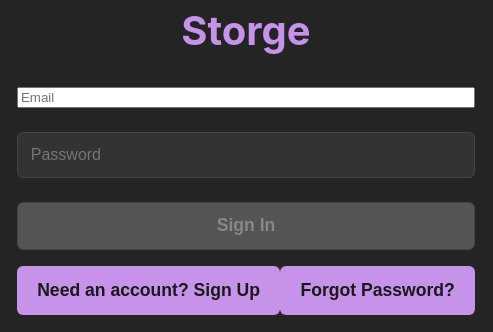
Test: LoginPage Component › enables button when fields are filled (sign-in mode)
This screenshot has width=493, height=332.
Expected: the button "Sign In" is disabled, [17,202,475,250]
Type "test@example.com" into the field with placeholder "Email" at (246, 98), box [17,87,475,108]
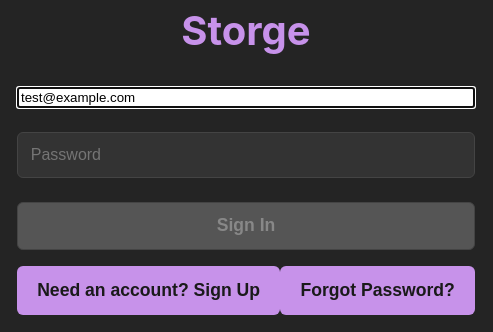
Type "password" into the password field with placeholder "Password" at (246, 155), box [17,132,475,178]
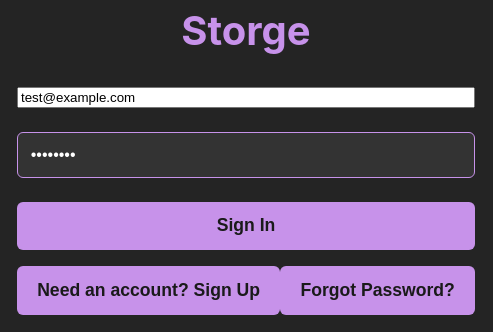
Now the button "Sign In" is enabled, box [17,202,475,250]
